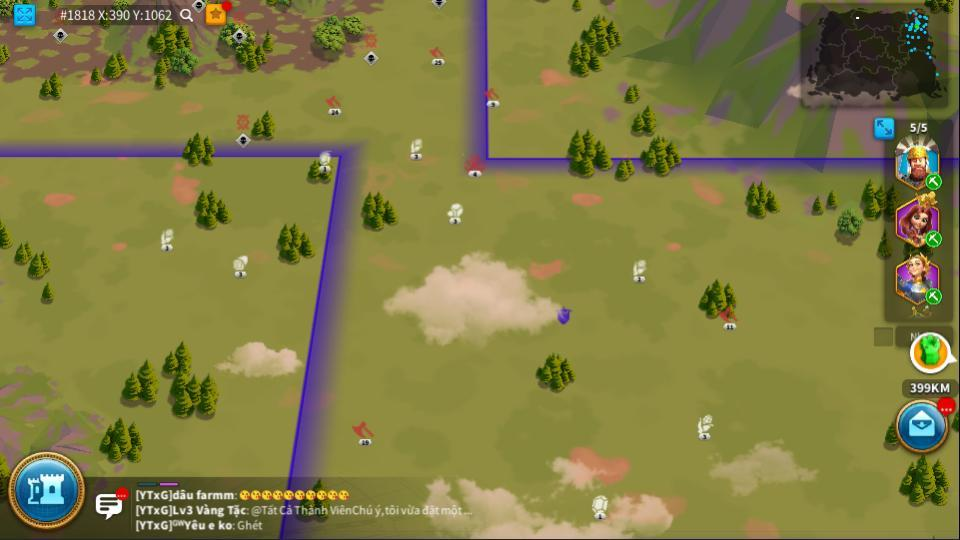gem-z-out: (590, 495, 609, 518), (230, 256, 249, 277), (407, 137, 425, 157)
march_marching: (926, 176, 942, 188), (927, 289, 941, 302), (927, 233, 941, 245)
